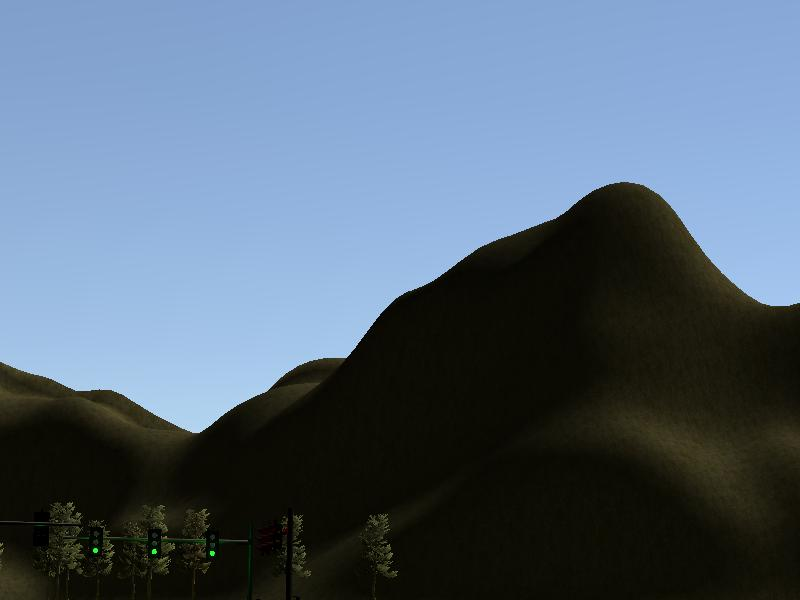Green: (147, 529, 162, 558), (206, 529, 219, 561), (88, 527, 102, 556)
